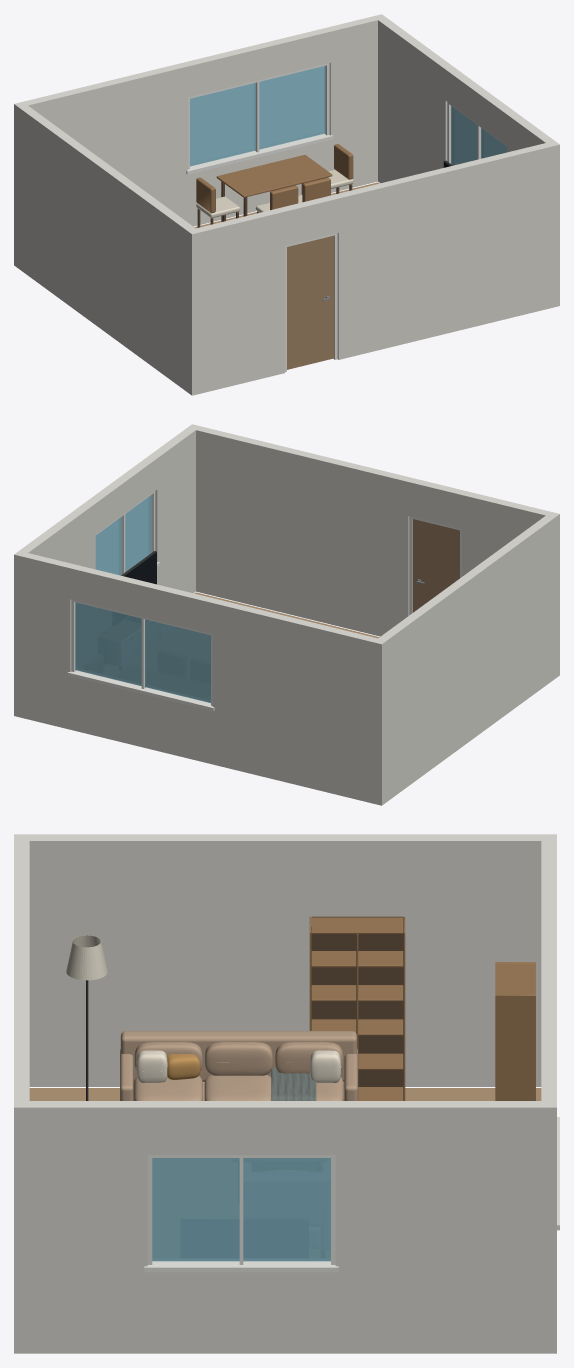
The model's file is oursv11b.glb.
The picture shows the model from 3 angles, top to bottom: view 1: azimuth 30°, elevation 25°; view 2: azimuth 150°, elevation 25°; view 3: azimuth 270°, elevation 25°; orthographic projection. The views are drawn at different scales.
Visible parts, largest first — view 1: wall|scenesmith_029__R00|0, wall|scenesmith_029__R00|2, wall|scenesmith_029__R00|1, wall|scenesmith_029__R00|3, wall|scenesmith_029__R00|1 Window 0 | glazing, wall|scenesmith_029__R00|0 Door 0 | wood leaf, Backrest, wall|scenesmith_029__R00|1 Window 0 | jamb, wall|scenesmith_029__R00|3 Window 0 | glazing, Lampshade, wall|scenesmith_029__R00|0 Door 0 | jamb, wall|scenesmith_029__R00|3 Window 0 | jamb; view 2: wall|scenesmith_029__R00|1, wall|scenesmith_029__R00|0, wall|scenesmith_029__R00|2, wall|scenesmith_029__R00|3, wall|scenesmith_029__R00|1 Window 0 | glazing, wall|scenesmith_029__R00|0 Door 0 | wood leaf, wall|scenesmith_029__R00|3 Window 0 | glazing, wall|scenesmith_029__R00|1 Window 0 | jamb, wall|scenesmith_029__R00|3 Window 0 | jamb, wall|scenesmith_029__R00|0 Door 0 | jamb, Display image; view 3: wall|scenesmith_029__R00|3, wall|scenesmith_029__R00|2, wall|scenesmith_029__R00|3 Window 0 | glazing, Backrest, Back upholstered shell, wall|scenesmith_029__R00|0, wall|scenesmith_029__R00|1, Carcass back, wall|scenesmith_029__R00|3 Window 0 | jamb, floor, V2 Accent scatter pillow, Lampshade (+2 smaller).
Boxes of the visible parts, left/top/right/bottom form: wall|scenesmith_029__R00|0: left=187, top=141, right=559, bottom=393; wall|scenesmith_029__R00|2: left=14, top=103, right=200, bottom=395; wall|scenesmith_029__R00|1: left=14, top=16, right=377, bottom=268; wall|scenesmith_029__R00|3: left=373, top=14, right=559, bottom=307; wall|scenesmith_029__R00|1 Window 0 | glazing: left=190, top=65, right=325, bottom=166; wall|scenesmith_029__R00|0 Door 0 | wood leaf: left=287, top=235, right=334, bottom=369; Backrest: left=196, top=144, right=353, bottom=213; wall|scenesmith_029__R00|1 Window 0 | jamb: left=186, top=63, right=333, bottom=174; wall|scenesmith_029__R00|3 Window 0 | glazing: left=451, top=106, right=507, bottom=165; Lampshade: left=196, top=169, right=353, bottom=218; wall|scenesmith_029__R00|0 Door 0 | jamb: left=285, top=233, right=337, bottom=371; wall|scenesmith_029__R00|3 Window 0 | jamb: left=447, top=102, right=507, bottom=163; wall|scenesmith_029__R00|1: left=23, top=553, right=386, bottom=805; wall|scenesmith_029__R00|0: left=187, top=424, right=559, bottom=636; wall|scenesmith_029__R00|2: left=373, top=514, right=559, bottom=805; wall|scenesmith_029__R00|3: left=14, top=428, right=195, bottom=717; wall|scenesmith_029__R00|1 Window 0 | glazing: left=75, top=602, right=210, bottom=702; wall|scenesmith_029__R00|0 Door 0 | wood leaf: left=412, top=519, right=459, bottom=612; wall|scenesmith_029__R00|3 Window 0 | glazing: left=95, top=495, right=151, bottom=575; wall|scenesmith_029__R00|1 Window 0 | jamb: left=67, top=599, right=214, bottom=711; wall|scenesmith_029__R00|3 Window 0 | jamb: left=95, top=491, right=159, bottom=574; wall|scenesmith_029__R00|0 Door 0 | jamb: left=409, top=516, right=461, bottom=615; Display image: left=124, top=552, right=156, bottom=584; wall|scenesmith_029__R00|3: left=29, top=1101, right=556, bottom=1353; wall|scenesmith_029__R00|2: left=29, top=834, right=556, bottom=1086; wall|scenesmith_029__R00|3 Window 0 | glazing: left=152, top=1158, right=330, bottom=1261; Backrest: left=309, top=916, right=535, bottom=1100; Back upholstered shell: left=120, top=1031, right=357, bottom=1100; wall|scenesmith_029__R00|0: left=14, top=834, right=29, bottom=1353; wall|scenesmith_029__R00|1: left=541, top=834, right=556, bottom=1353; Carcass back: left=311, top=916, right=403, bottom=1086; wall|scenesmith_029__R00|3 Window 0 | jamb: left=144, top=1155, right=338, bottom=1272; floor: left=29, top=1088, right=541, bottom=1100; V2 Accent scatter pillow: left=136, top=1050, right=340, bottom=1082; Lampshade: left=66, top=935, right=107, bottom=980.
Bounding box in the file's own units: 6.23 × 2.61 × 5.23.
